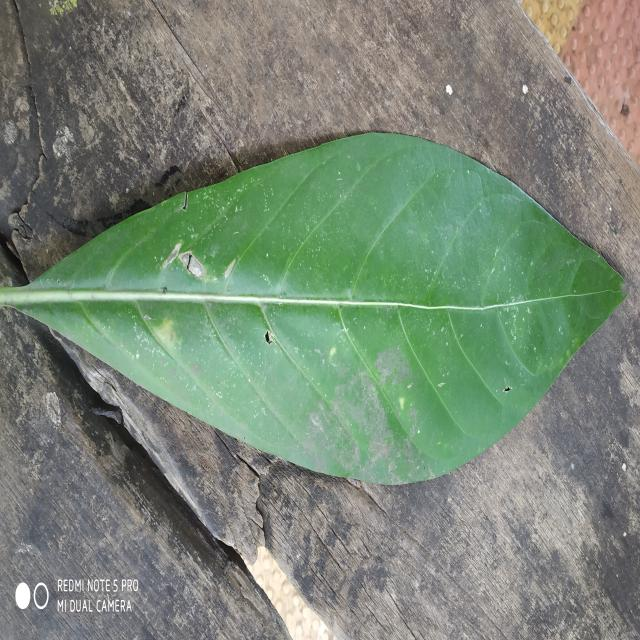nooni: (0, 133, 624, 484)
